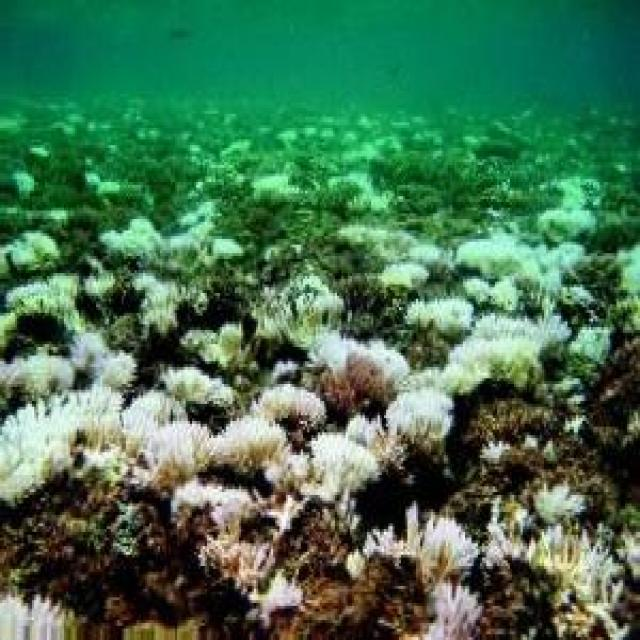bleached coral: (361, 506, 482, 640), (0, 390, 137, 492), (194, 395, 318, 489), (105, 208, 245, 270), (444, 319, 548, 398), (256, 265, 346, 353), (457, 230, 585, 287), (384, 390, 454, 466), (378, 262, 442, 290)
